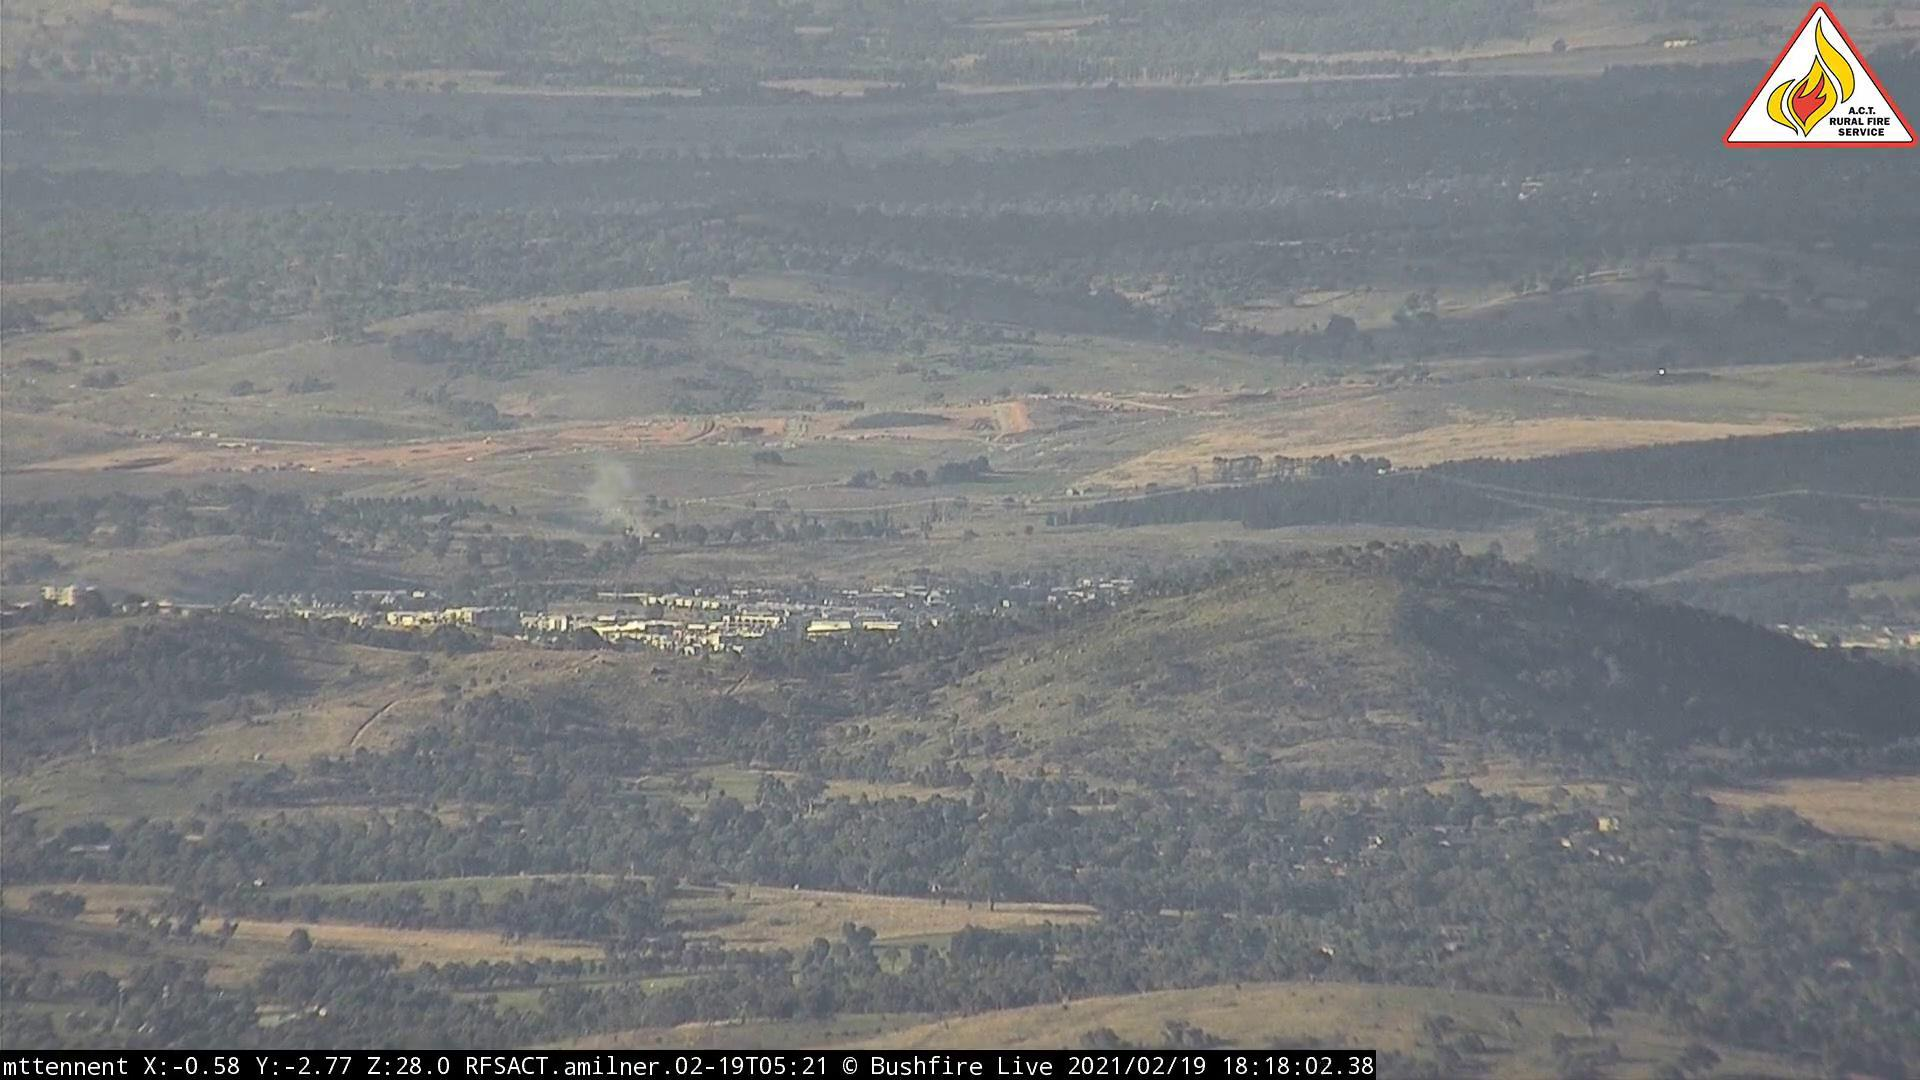instance_salient_object: (615, 512, 678, 553)
